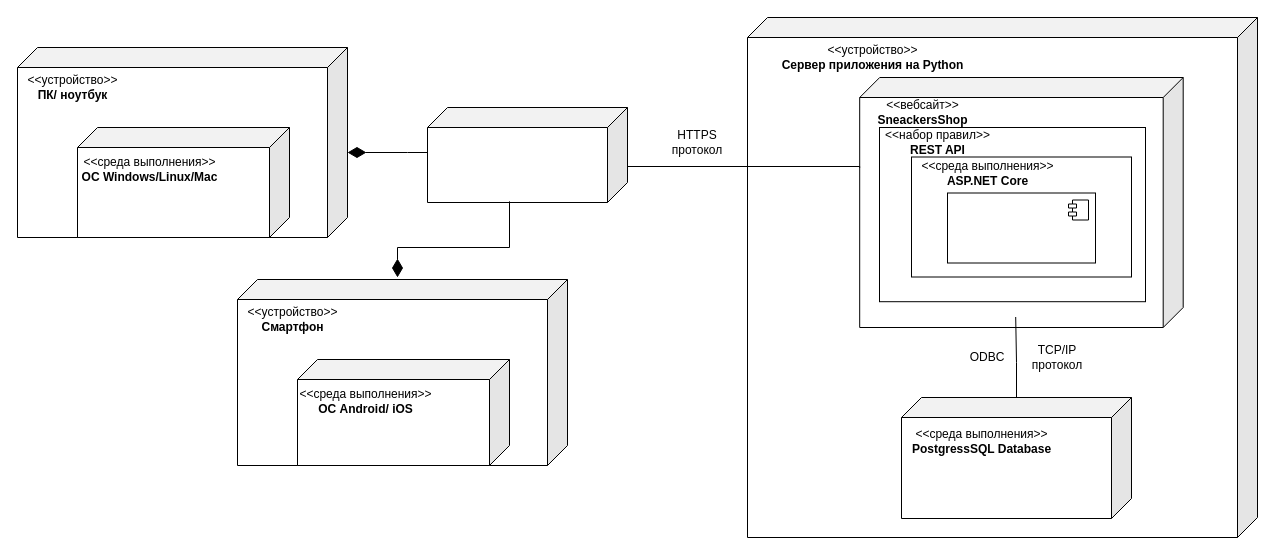
Some shapes in this 1275 by 555 pixel diagram are drawn without their labels. The box of each missing label's shape, as (x1, y1, x2, y2) in pixels:
<<Веб-браузер>>: (426, 106, 628, 202)
<<приложение>> SneackersShop .exe: (946, 192, 1096, 263)
